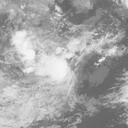cyclone: (41, 50, 75, 86)
